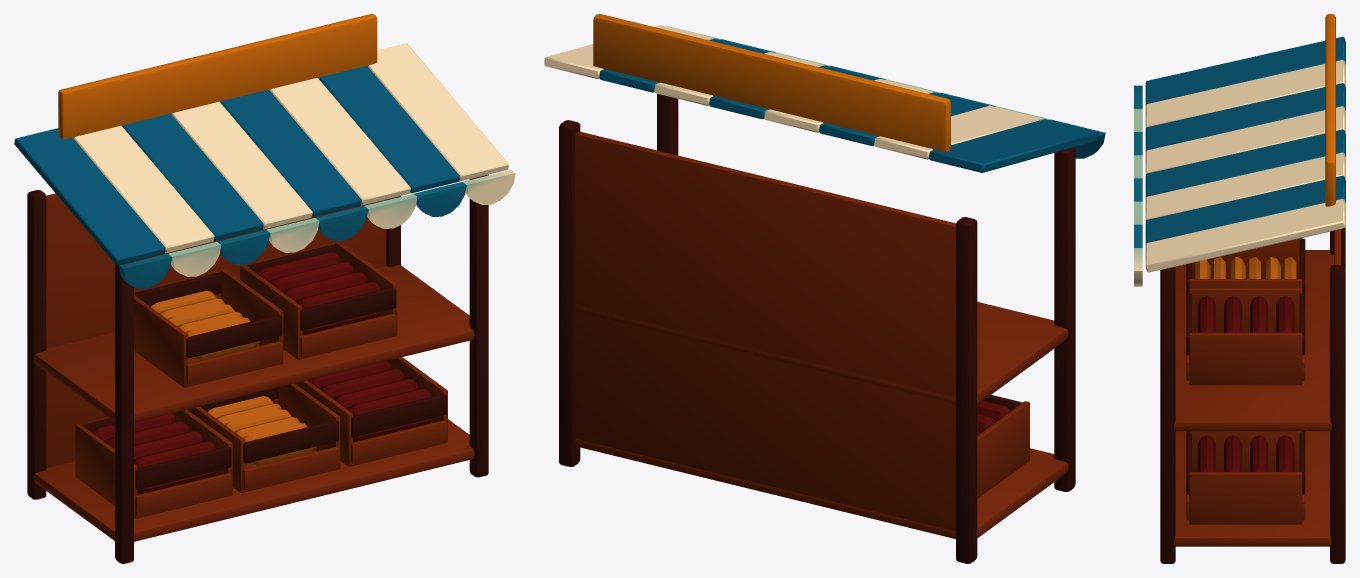
File: IngredientRack.obj
The picture shows the model from 3 angles, left to right: view 1: azimuth 30°, elevation 25°; view 2: azimuth 150°, elevation 25°; view 3: azimuth 270°, elevation 25°; orthographic projection. The views are drawn at different scales.
Parts seen in each view (by area): view 1: IngredientRack; view 2: IngredientRack; view 3: IngredientRack.
Boxes of the visible parts, x1=… form: IngredientRack: x1=14, y1=14, x2=515, y2=563; IngredientRack: x1=544, y1=14, x2=1105, y2=563; IngredientRack: x1=1134, y1=14, x2=1345, y2=563.
Size of the model in its own units: 6.2 by 6.1 by 3.
